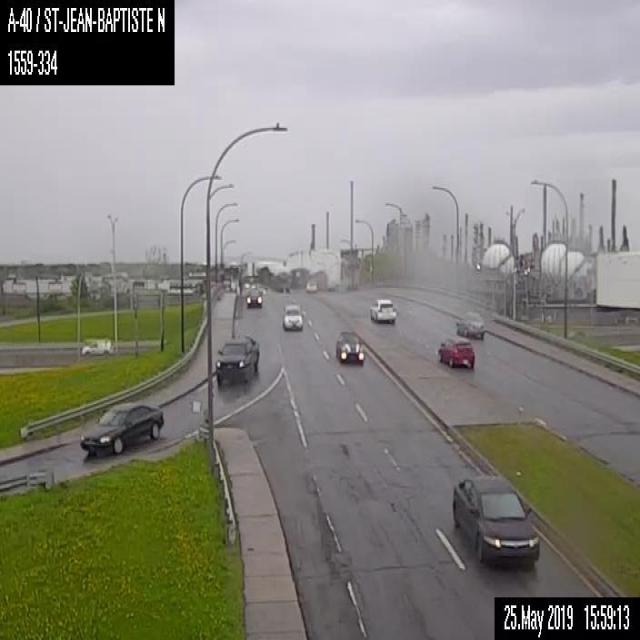vehicle: (450, 474, 538, 566), (78, 400, 165, 456), (215, 335, 259, 384), (334, 329, 364, 364), (438, 338, 474, 366), (368, 296, 396, 323), (456, 312, 484, 336), (282, 300, 303, 331), (79, 336, 109, 355), (244, 288, 262, 308), (305, 277, 318, 291)
